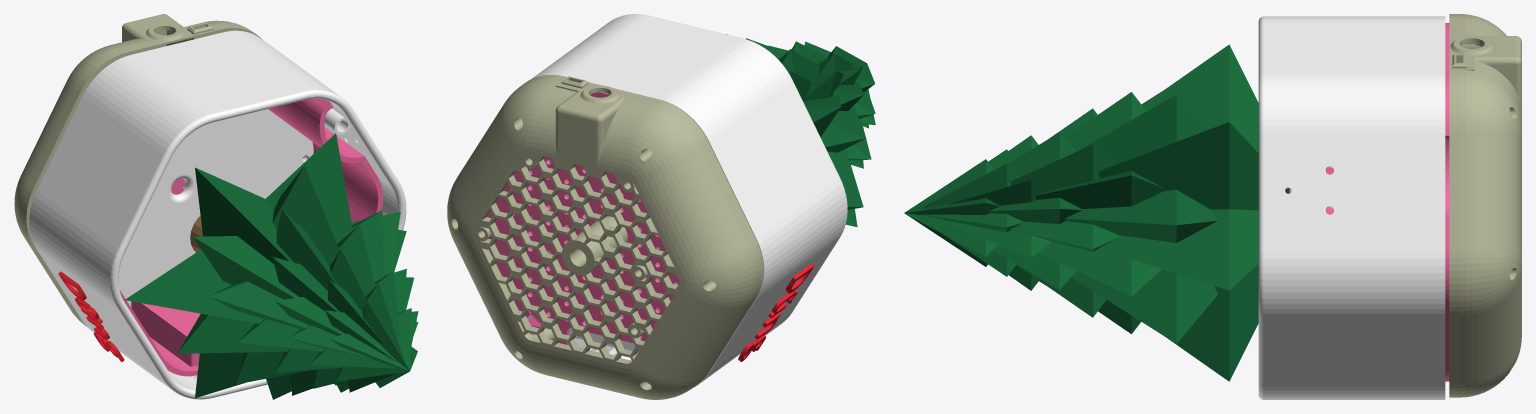
File: tinker.obj
3 views of the same model, side by side, from view 1: azimuth 30°, elevation 25°; view 2: azimuth 150°, elevation 25°; view 3: azimuth 270°, elevation 25° (orthographic). The views are drawn at different scales.
Parts seen in each view (by area): view 1: obj_2, obj_4, obj_0, obj_1, obj_3; view 2: obj_0, obj_2, obj_1, obj_4, obj_3; view 3: obj_2, obj_4, obj_0, obj_1.
Boxes of the visible parts, left/top/right/bottom form: obj_2: left=29, top=30, right=406, bottom=399; obj_4: left=125, top=133, right=418, bottom=399; obj_0: left=14, top=14, right=262, bottom=326; obj_1: left=119, top=98, right=382, bottom=376; obj_3: left=58, top=271, right=124, bottom=361; obj_0: left=447, top=74, right=763, bottom=399; obj_2: left=496, top=14, right=847, bottom=387; obj_1: left=487, top=92, right=679, bottom=345; obj_4: left=726, top=34, right=875, bottom=227; obj_3: left=738, top=263, right=814, bottom=361; obj_2: left=1258, top=16, right=1445, bottom=399; obj_4: left=904, top=44, right=1289, bottom=381; obj_0: left=1449, top=14, right=1521, bottom=397; obj_1: left=1289, top=23, right=1449, bottom=381.
Bounding box in the file's own units: 186 × 178 × 298.
